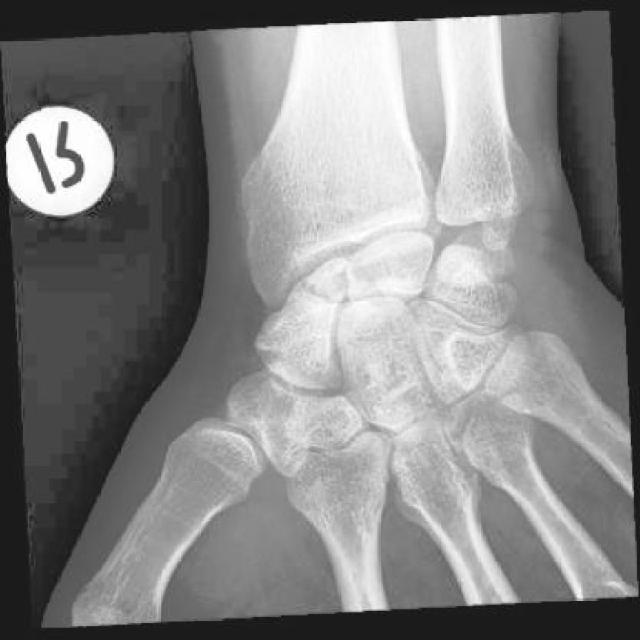Fracture: (292, 258, 349, 320)
